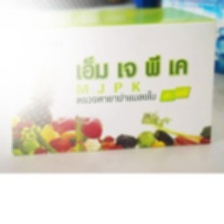book: (3, 0, 224, 161)
